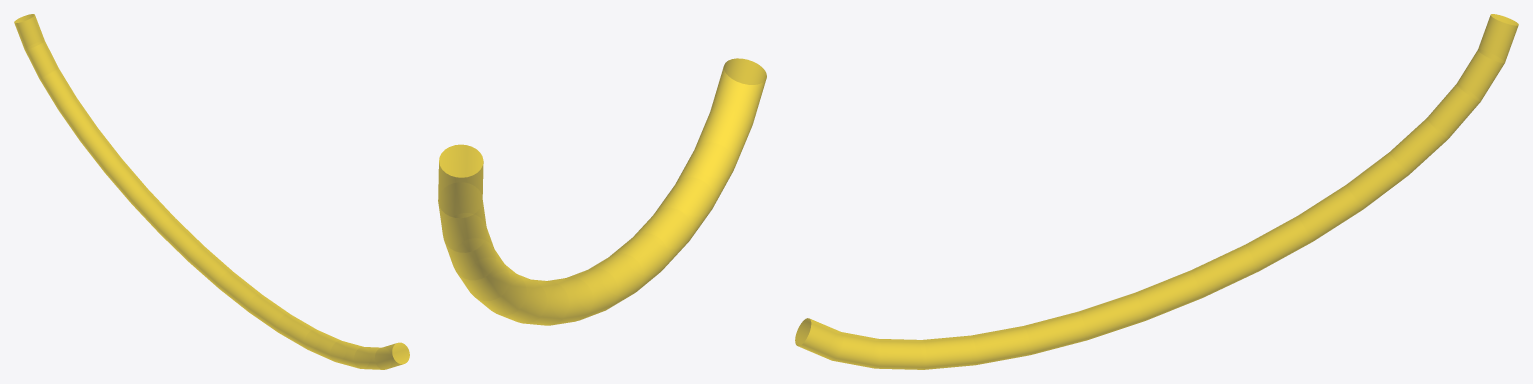
File: Event_419990632_track_63.fbx
The picture shows the model from 3 angles, left to right: view 1: azimuth 30°, elevation 25°; view 2: azimuth 150°, elevation 25°; view 3: azimuth 270°, elevation 25°; orthographic projection. The views are drawn at different scales.
Visible parts, largest first — view 1: Model; view 2: Model; view 3: Model.
Part boxes in pixels (x1,y1,x2,y2): Model: (14, 14, 409, 369); Model: (438, 58, 766, 325); Model: (795, 14, 1518, 369).
Bounding box in the file's own units: 0.2818 × 0.4232 × 0.9597.
